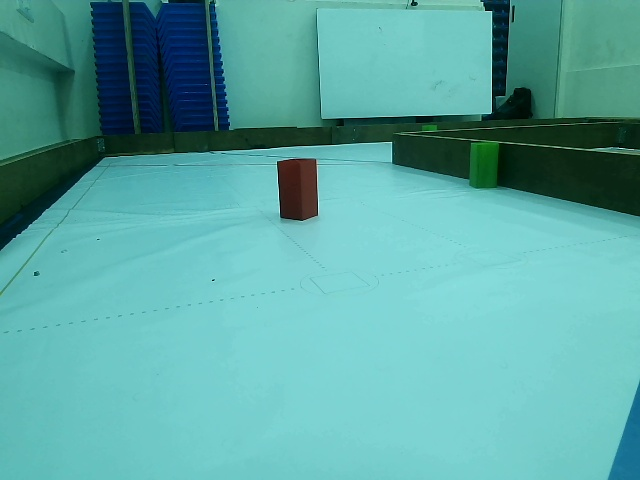red: (279, 161, 319, 218)
